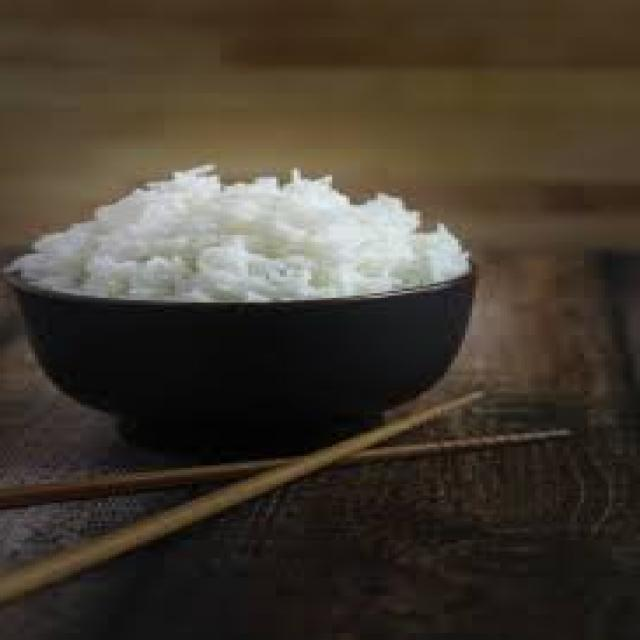White Rice: (0, 163, 486, 433)
